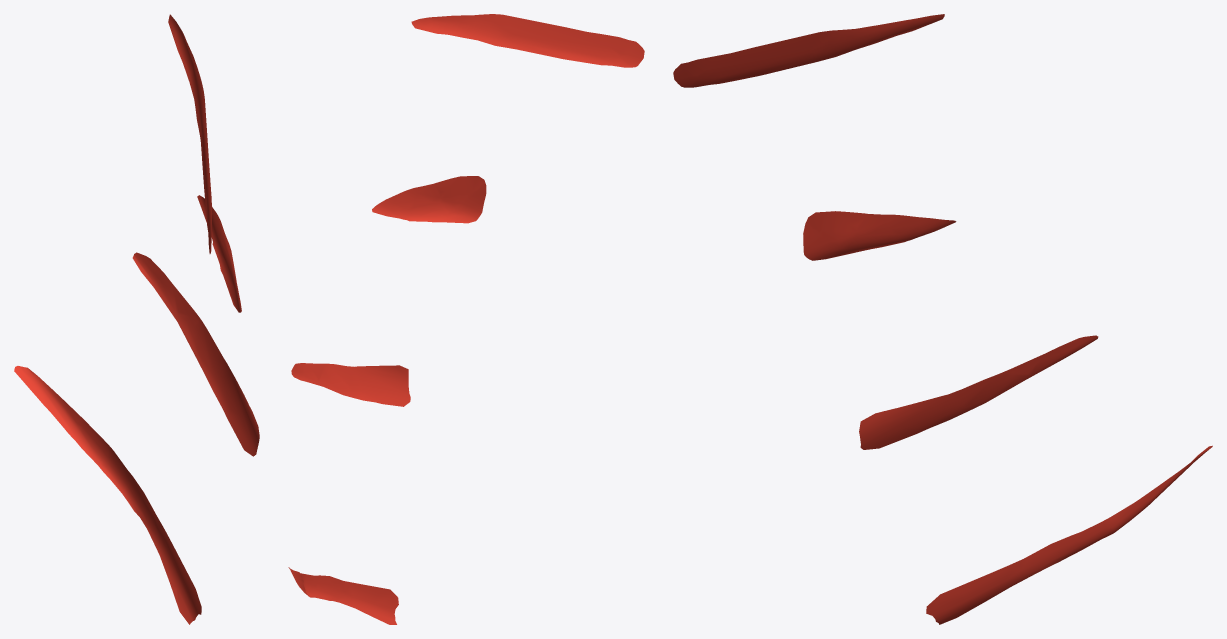
The model's file is External_abdominal_oblique-Thoracic_insertions.l_Generated_Mesh.glb.
The picture shows the model from 3 angles, left to right: view 1: azimuth 30°, elevation 25°; view 2: azimuth 150°, elevation 25°; view 3: azimuth 270°, elevation 25°; orthographic projection.
Visible parts, largest first — view 1: External_abdominal_oblique-Thoracic_insertions.l_Generated_M; view 2: External_abdominal_oblique-Thoracic_insertions.l_Generated_M; view 3: External_abdominal_oblique-Thoracic_insertions.l_Generated_M.
Boxes of the visible parts, x1,y1,x2,y2 form: External_abdominal_oblique-Thoracic_insertions.l_Generated_M: (14, 14, 259, 624); External_abdominal_oblique-Thoracic_insertions.l_Generated_M: (288, 14, 644, 624); External_abdominal_oblique-Thoracic_insertions.l_Generated_M: (673, 14, 1212, 624).
Size of the model in its own units: 0.0312 by 0.1185 by 0.0961.
